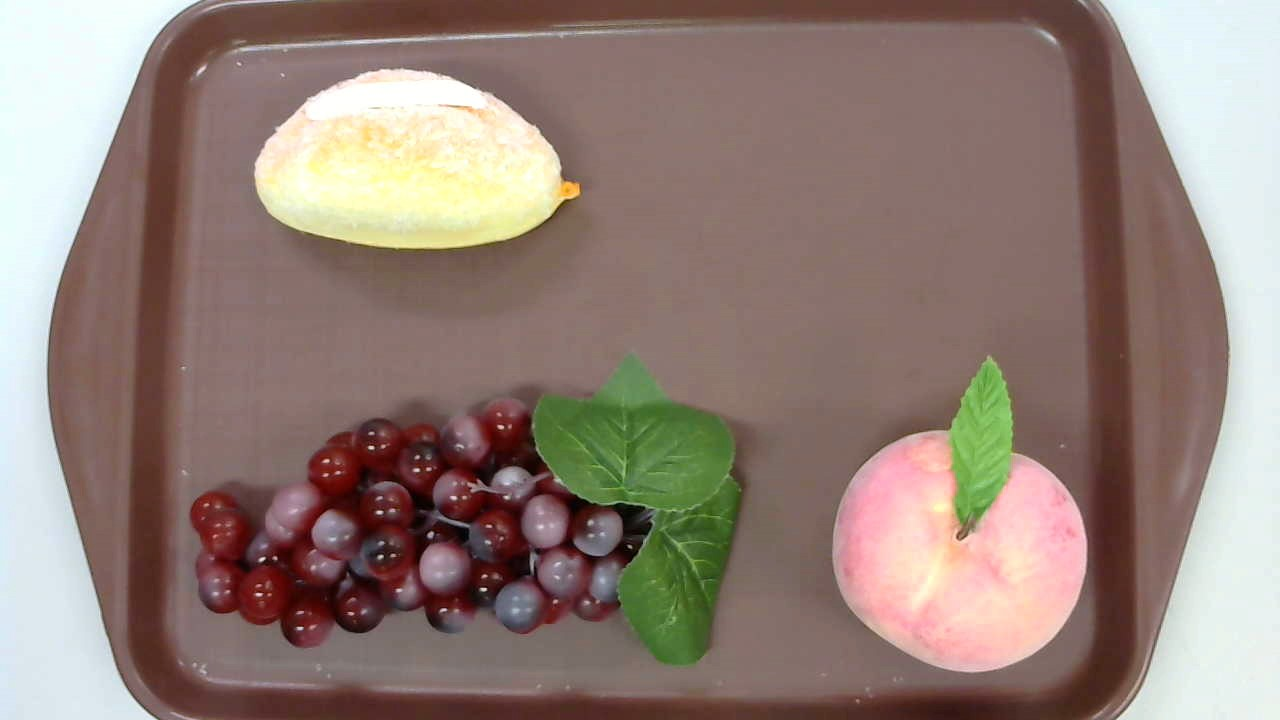coconut: (254, 66, 582, 252)
grape: (187, 351, 746, 665)
peach: (832, 354, 1088, 672)
